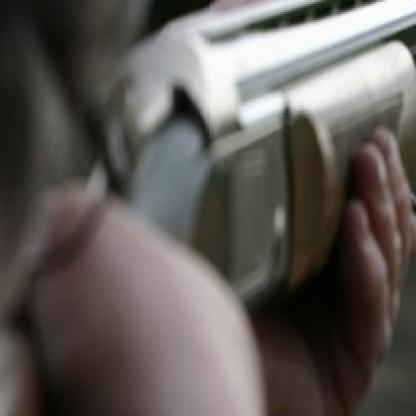gun: (82, 0, 415, 408)
